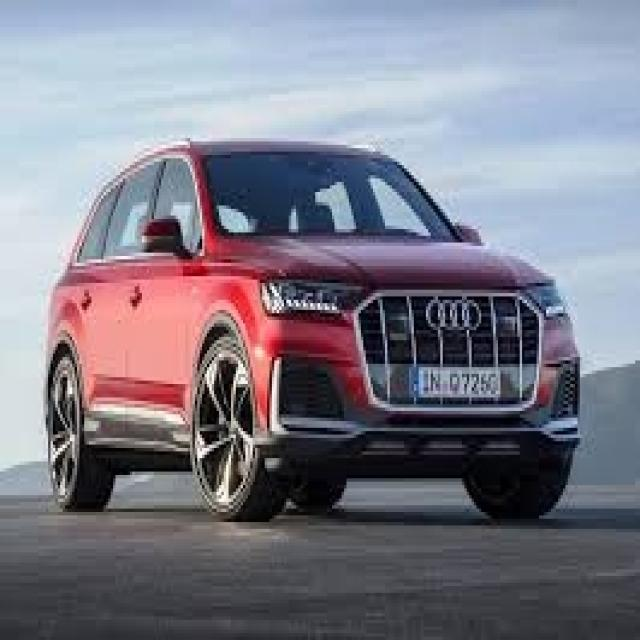red: (42, 140, 574, 540)
